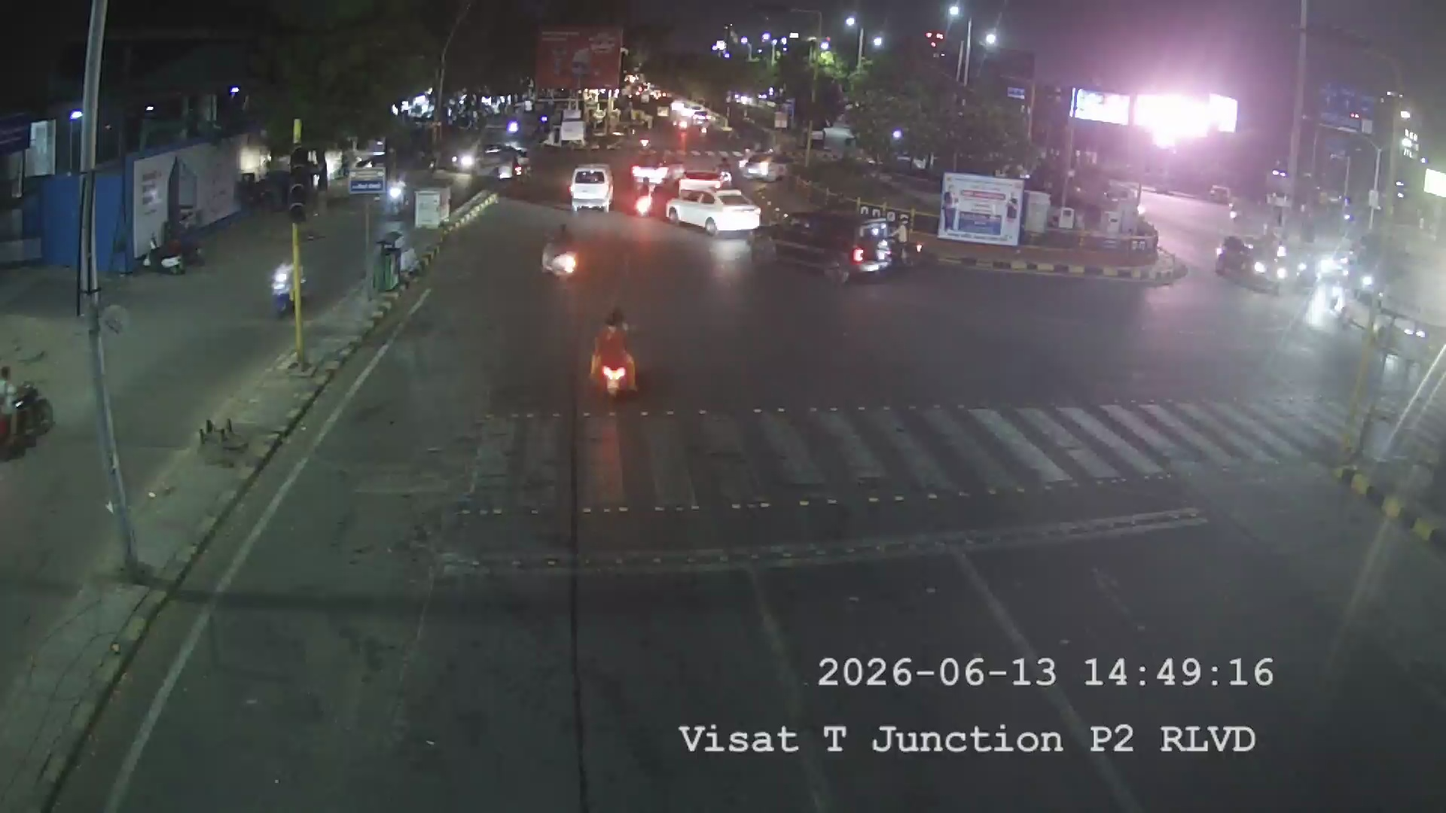auto_rickshaw: (1211, 227, 1290, 294), (847, 215, 908, 275)
car: (665, 174, 764, 237), (1210, 227, 1290, 293), (568, 160, 614, 211), (630, 159, 670, 214)
two_wheeler: (0, 356, 56, 461), (588, 304, 643, 406), (845, 216, 908, 276), (537, 221, 584, 284), (264, 251, 303, 316)
